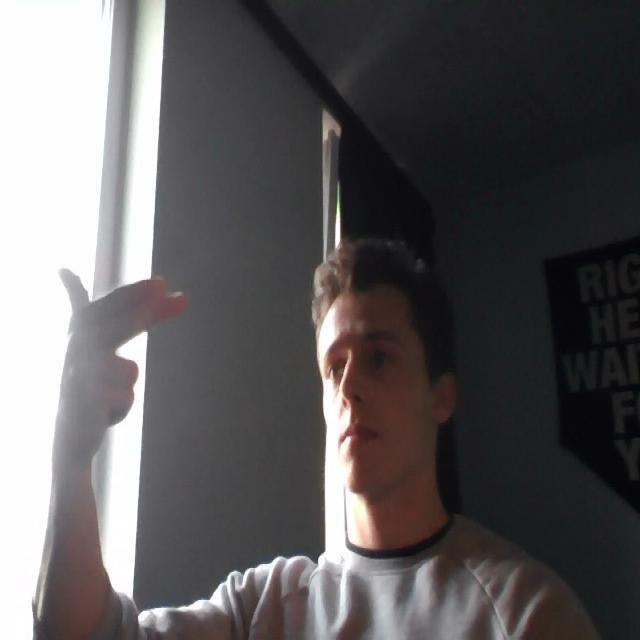right: (32, 237, 192, 432)
